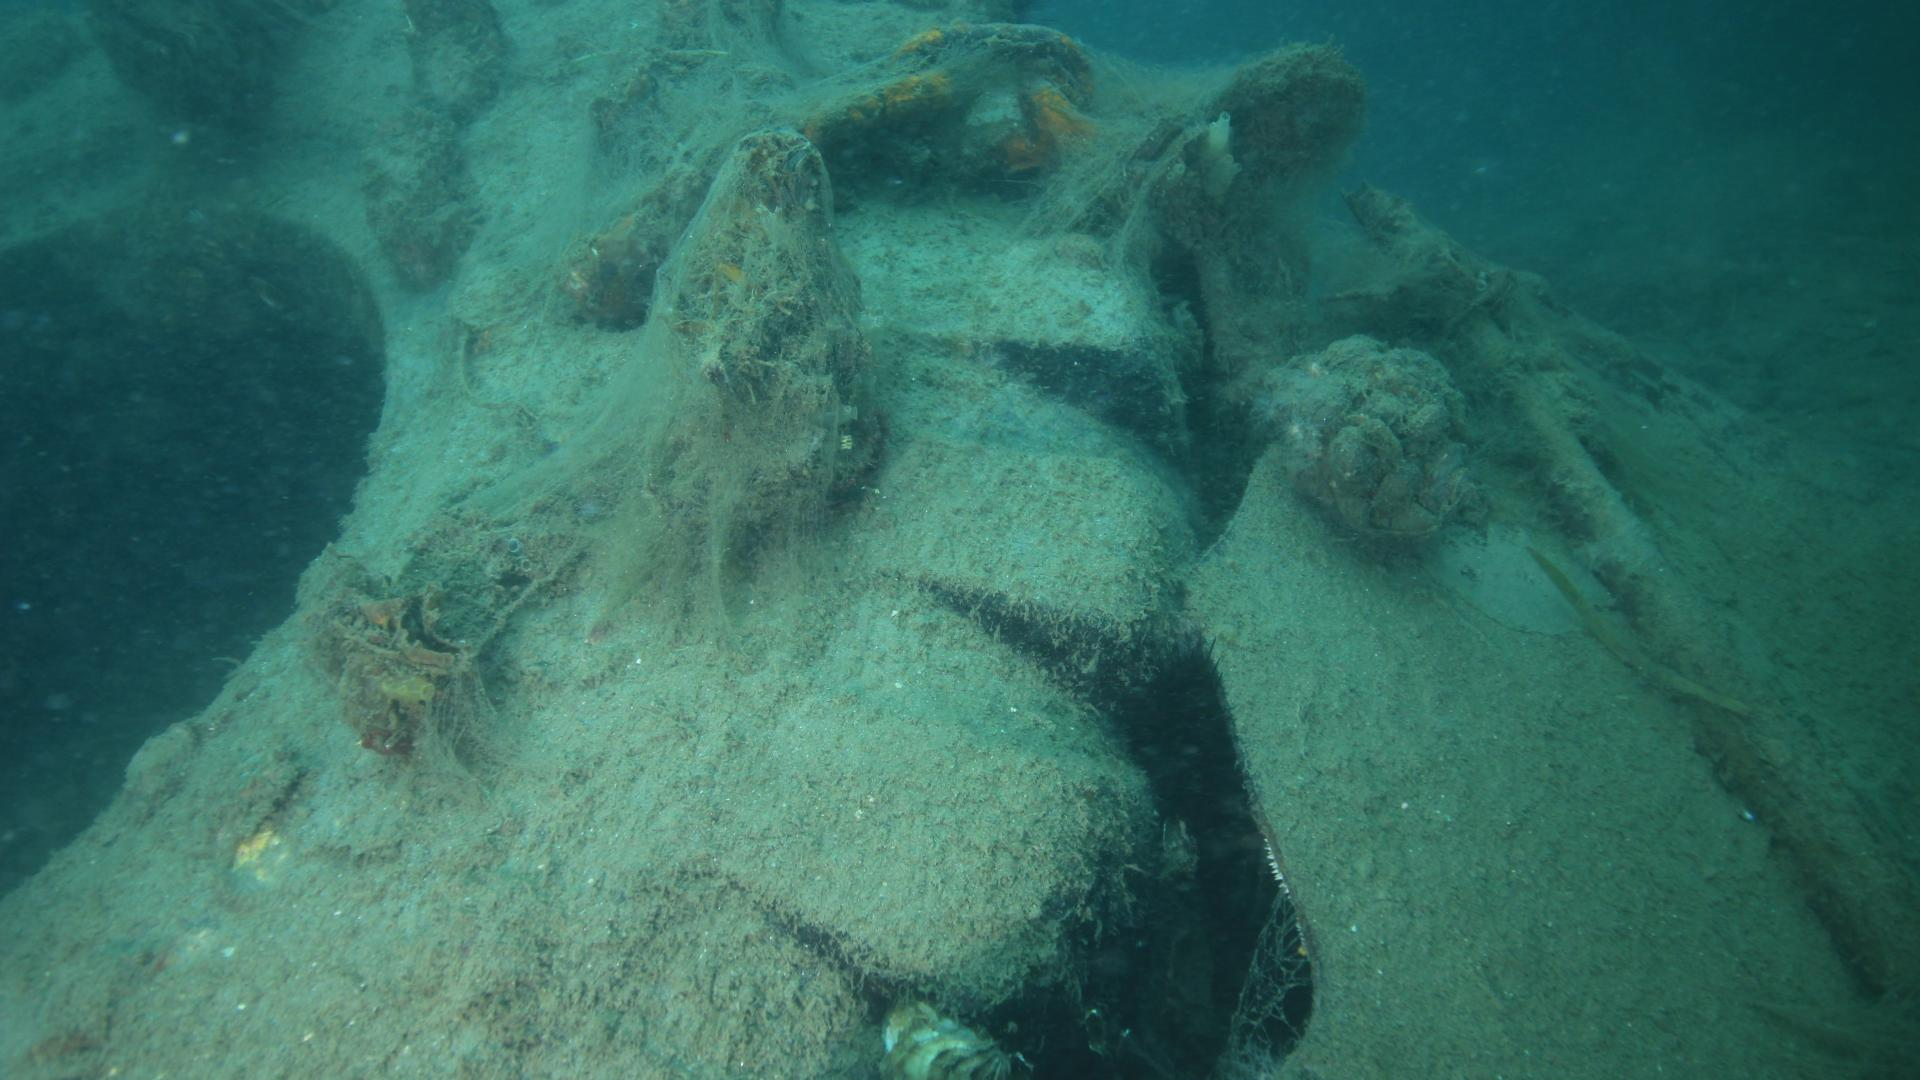tire: (0, 3, 1207, 1080)
